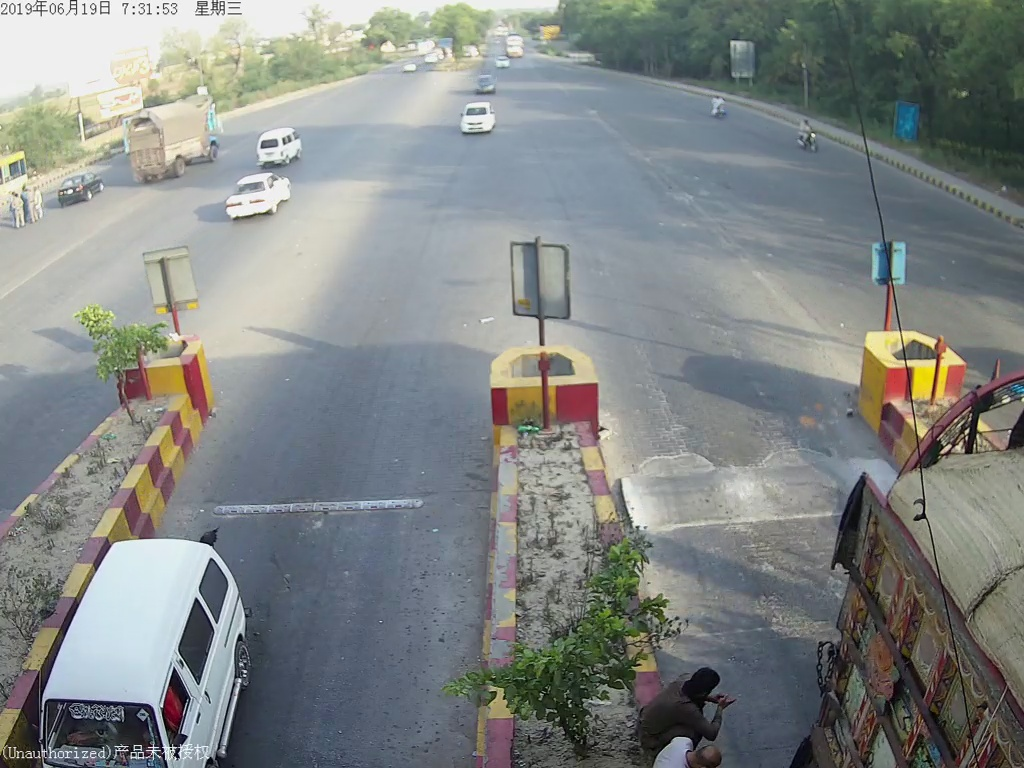Cat-1: (451, 102, 505, 141)
